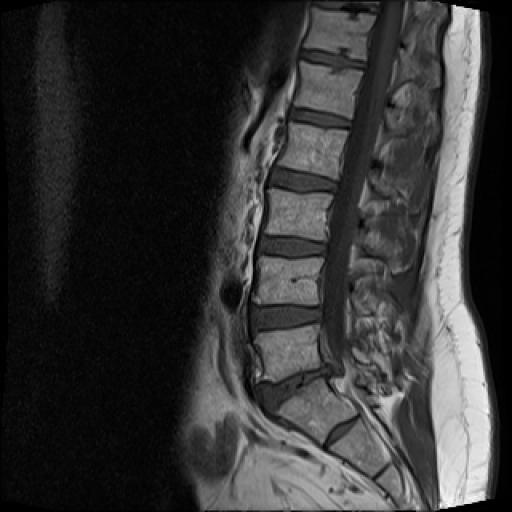L1: (291, 61, 365, 120)
L2: (278, 122, 348, 178)
L3: (262, 187, 332, 240)
L4: (254, 255, 327, 306)
L5: (251, 324, 320, 385)
S1: (274, 376, 358, 442)
